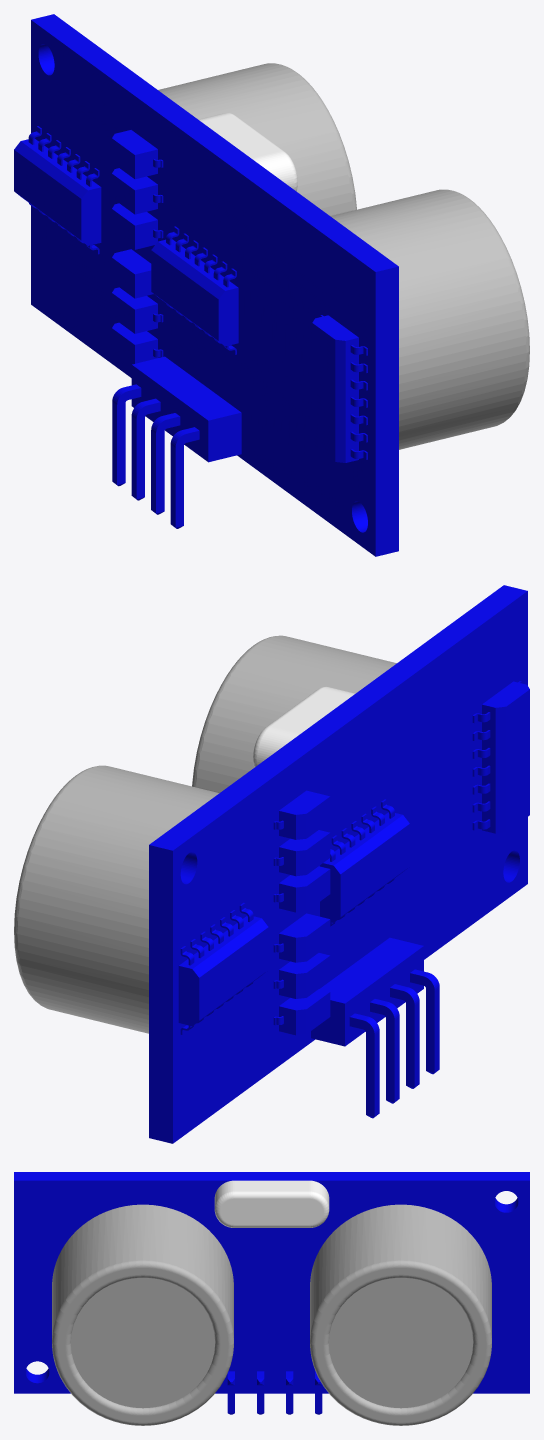
The model's file is ultrasonic.dae.
3 views of the same model, one above another, from view 1: azimuth 30°, elevation 25°; view 2: azimuth 150°, elevation 25°; view 3: azimuth 270°, elevation 25° (orthographic). The views are drawn at different scales.
Visible parts, largest first — view 1: Part 1, Part 2, Part 4, Part 3; view 2: Part 1, Part 4, Part 2, Part 3; view 3: Part 1, Part 4, Part 2, Part 3.
Part boxes in pixels (x1,y1,x2,y2): Part 1: (14, 14, 398, 556); Part 2: (330, 189, 529, 449); Part 4: (158, 63, 356, 216); Part 3: (198, 113, 297, 191); Part 1: (149, 585, 529, 1143); Part 4: (14, 765, 219, 1033); Part 2: (192, 635, 396, 792); Part 3: (253, 686, 354, 767); Part 1: (14, 1172, 529, 1414); Part 4: (310, 1204, 491, 1425); Part 2: (52, 1204, 233, 1425); Part 3: (214, 1180, 329, 1227).
Size of the model in its own units: 0.0184 by 0.0457 by 0.0256.
